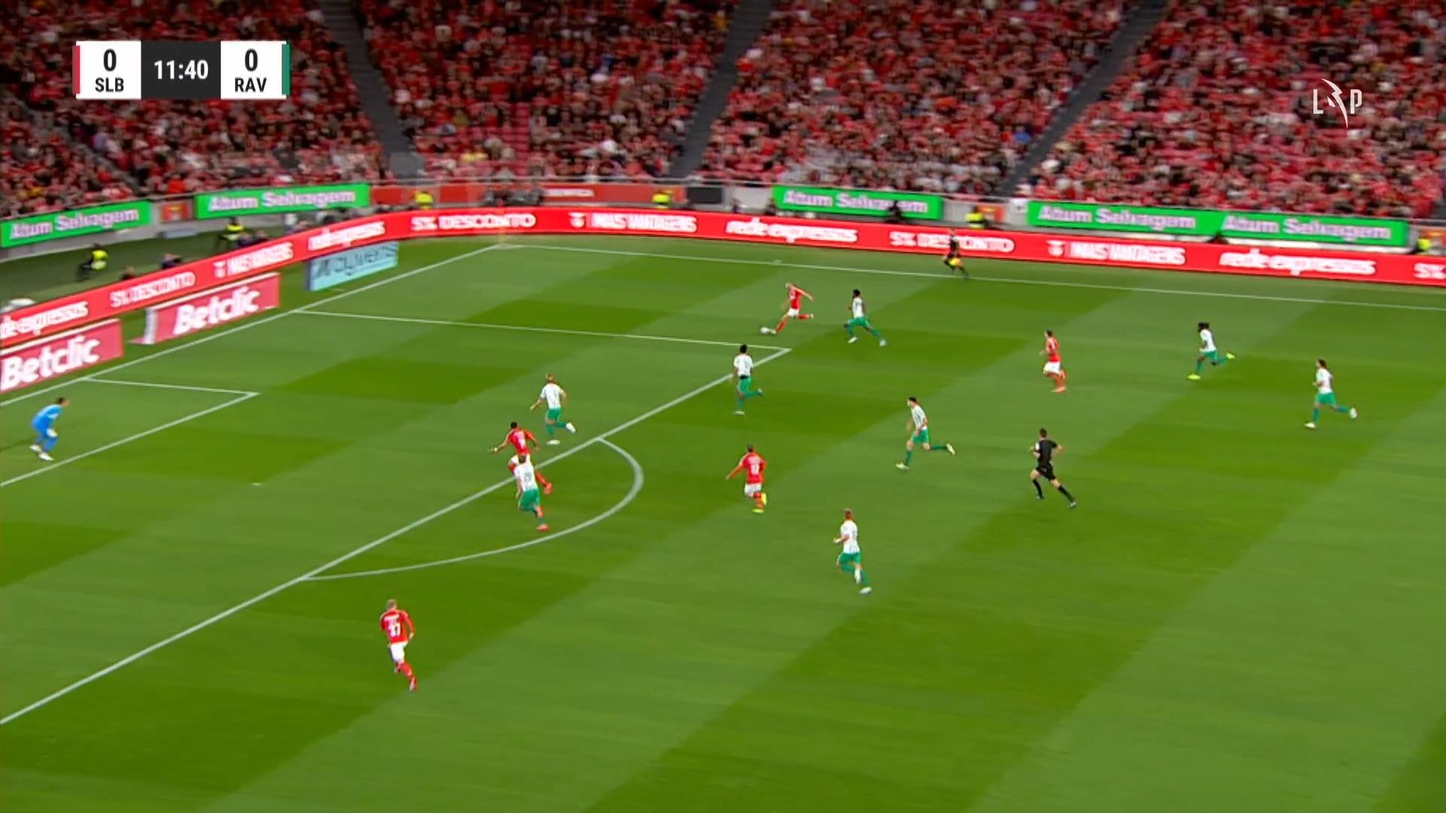ball: (759, 326, 769, 333)
goalkeeper: (28, 395, 69, 461)
player: (895, 395, 956, 470), (489, 420, 541, 501), (1303, 357, 1357, 428), (507, 449, 552, 531), (379, 597, 417, 693), (831, 507, 871, 594), (529, 372, 576, 445), (760, 281, 815, 336), (725, 443, 768, 513), (1186, 320, 1234, 380), (843, 288, 887, 347), (730, 343, 764, 415), (1038, 327, 1067, 392)
referee: (1028, 427, 1078, 509), (941, 229, 969, 279)
